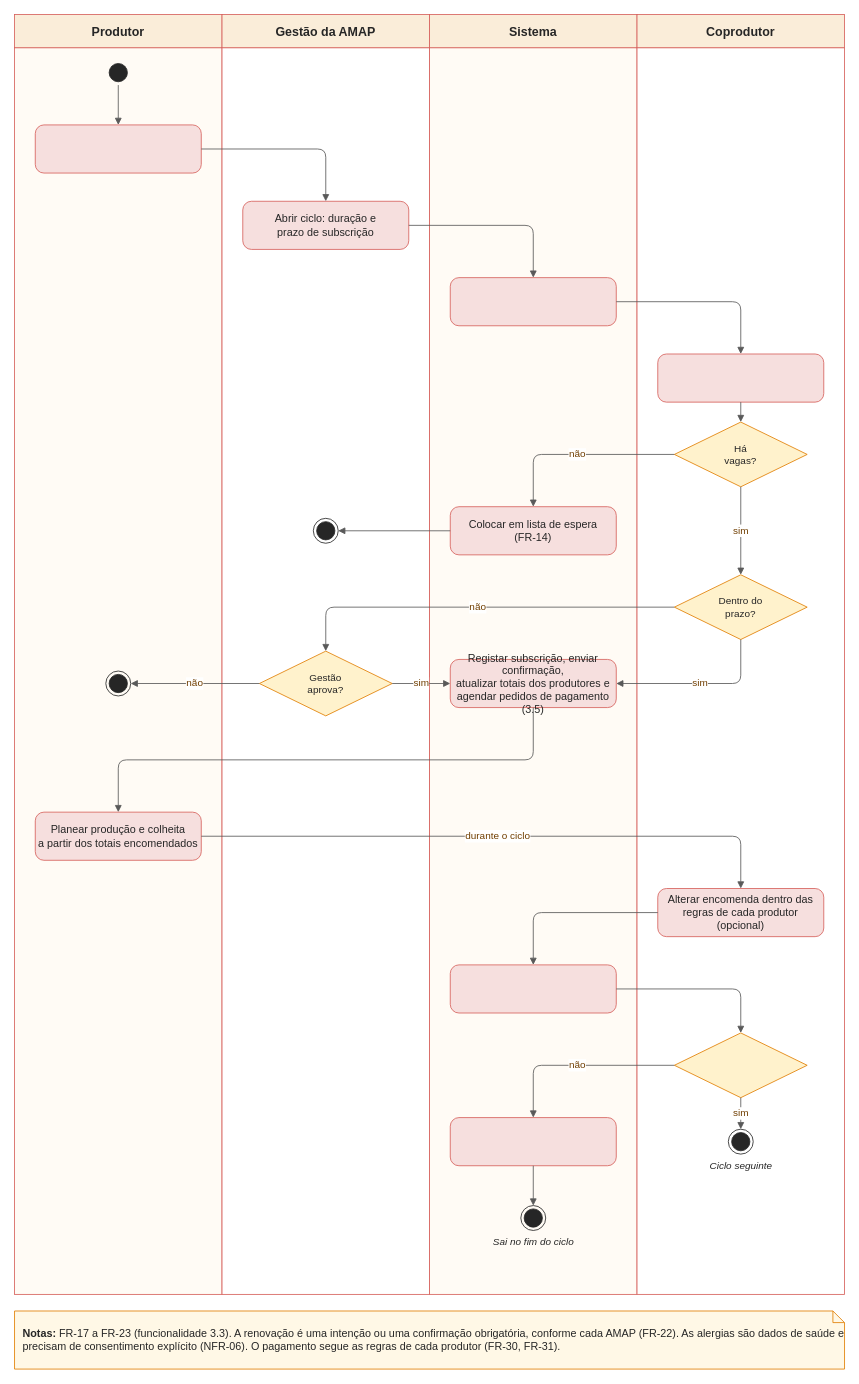
Image size: 859x1384. Some labels were removed from this diagram. The centre of each missing label's shape, as x and y in pixels:
"Avisar os membros ativos" goes at (x=532, y=301).
"Em lista de espera" goes at (x=325, y=530).
"Escolher produtos, variantes e datas de vários produtores; registar exclusões" goes at (x=740, y=377).
"Pedido recusado" goes at (x=118, y=683).
"Perguntar se renova, com a encomenda anterior preenchida" goes at (x=532, y=988).
"Preparar catálogo e datas de entrega (reutilizar o ciclo anterior)" goes at (x=117, y=148).
"Registar, avisar a gestão; vaga oferecida à lista de espera" goes at (x=532, y=1141).
"Renova?" goes at (x=740, y=1065).
